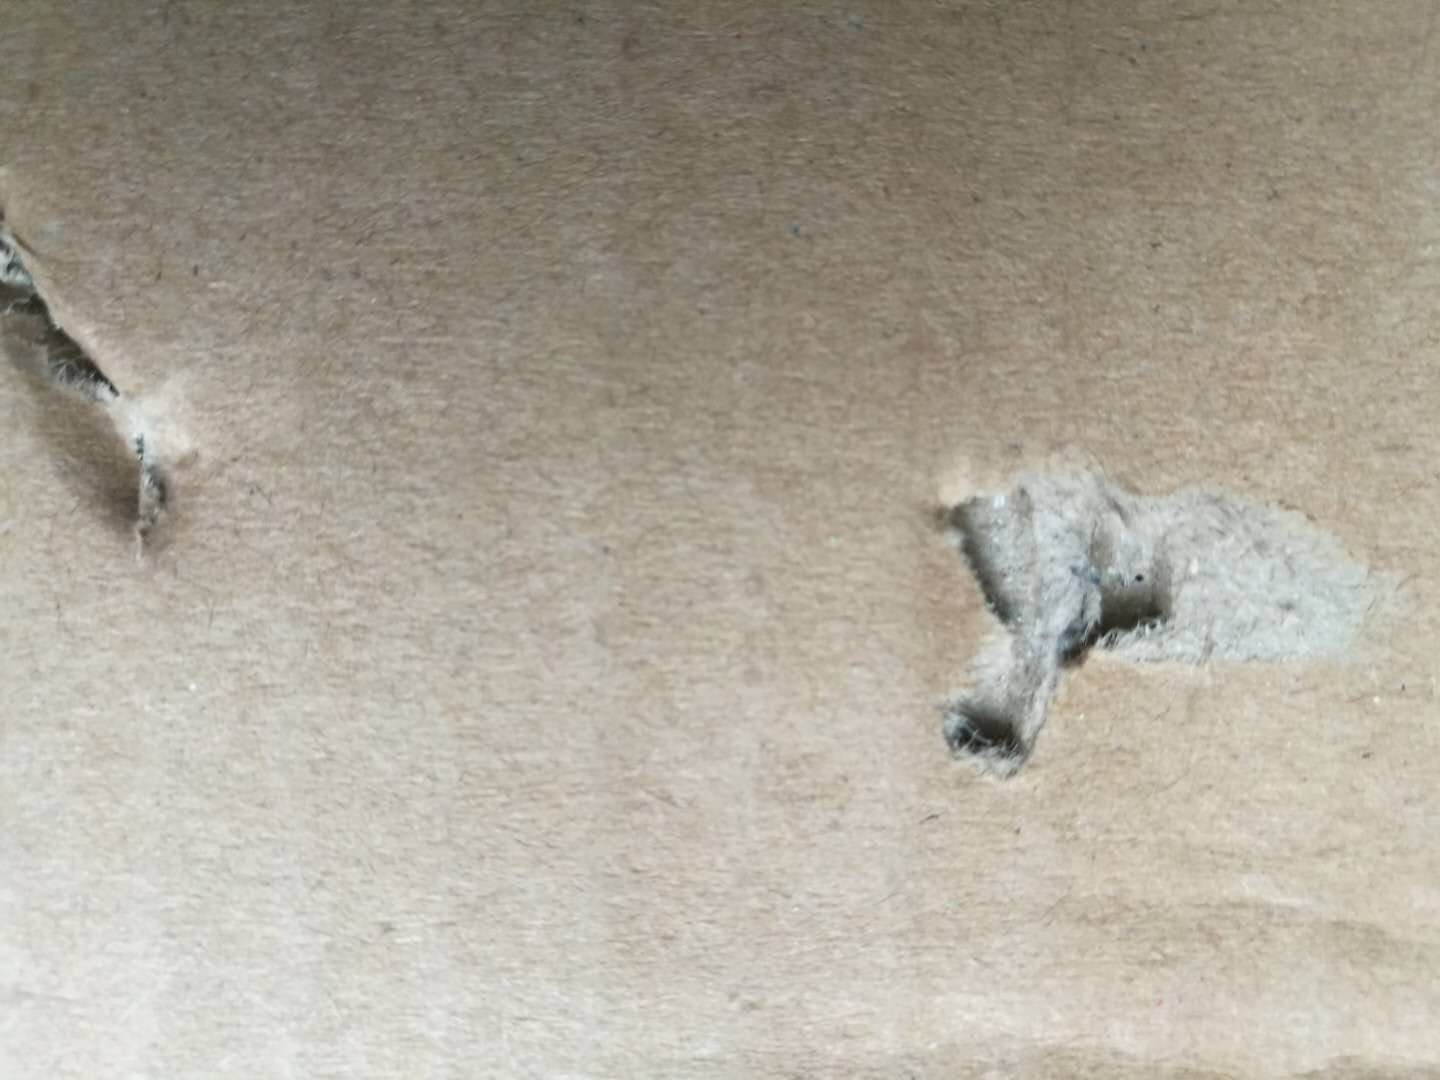defect: (896, 417, 1428, 819), (1, 159, 273, 616)
